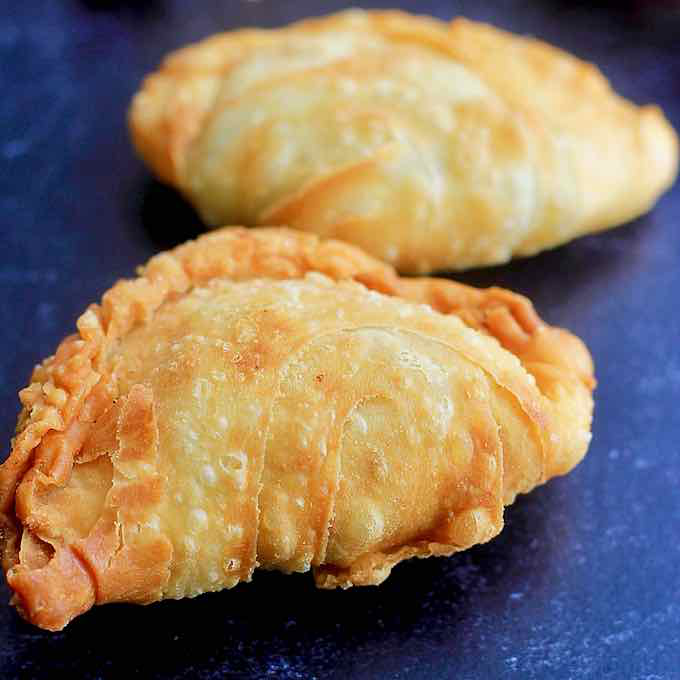Curry Puff: (10, 219, 602, 633), (78, 23, 676, 262)
